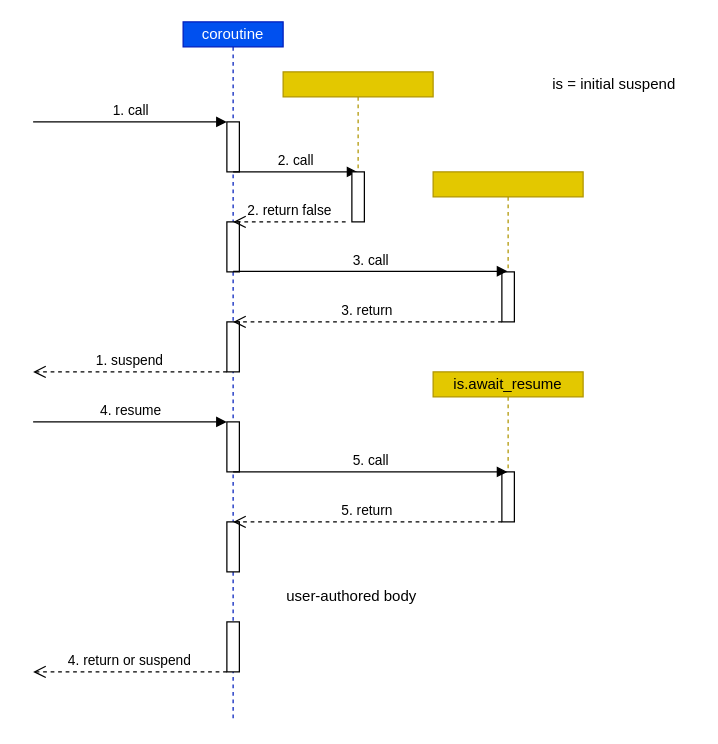
Image size: 718x744. Some labels were removed from this diagram. Each missing label, with the centre of its shape:
"is.await_ready" belongs at point (357, 146).
"is.await_suspend" belongs at point (507, 246).
